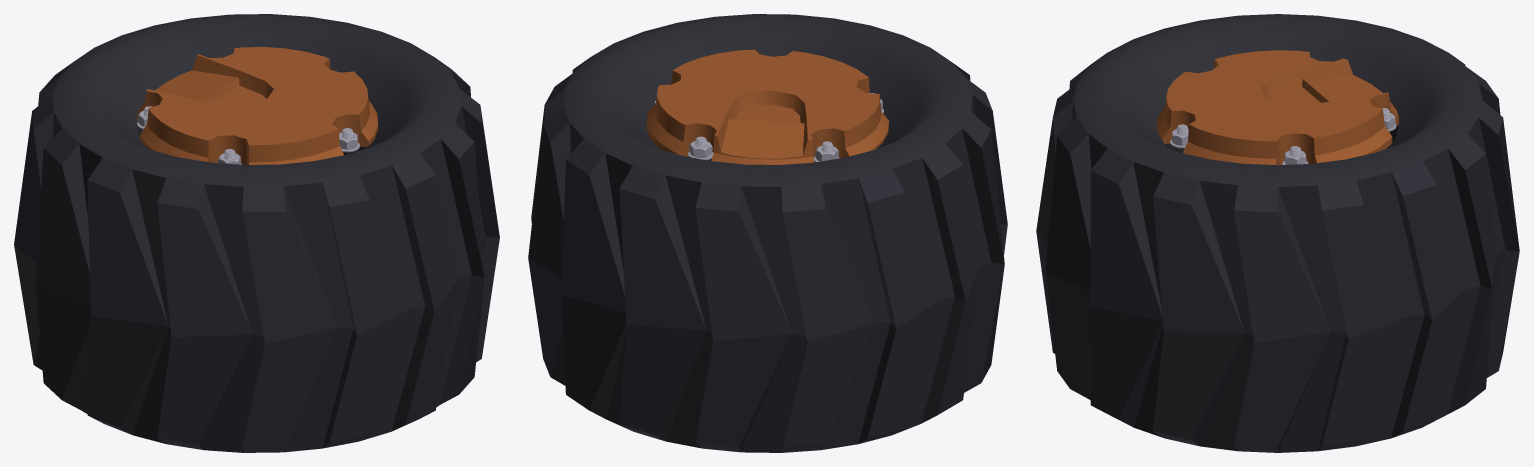
The model's file is VehicleBLW.fbx.
3 renders of one model, left to right at view 1: azimuth 30°, elevation 25°; view 2: azimuth 150°, elevation 25°; view 3: azimuth 270°, elevation 25°, orthographic.
Visible parts, largest first — view 1: BLW; view 2: BLW; view 3: BLW.
Boxes of the visible parts, bbox=[...] form: BLW: bbox=[14, 14, 499, 452]; BLW: bbox=[528, 14, 1007, 452]; BLW: bbox=[1036, 14, 1519, 452].
Bounding box in the file's own units: 7.09 × 4.69 × 7.09.
